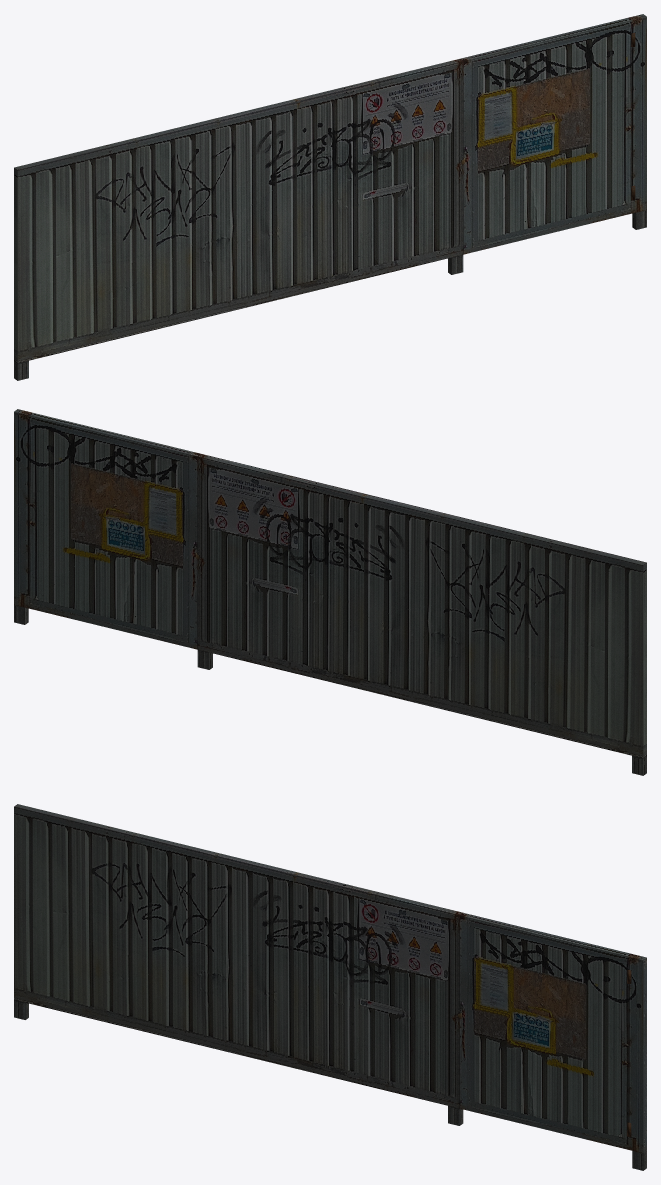
File: gate_1.glb
The picture shows the model from 3 angles, top to bottom: view 1: azimuth 30°, elevation 25°; view 2: azimuth 150°, elevation 25°; view 3: azimuth 330°, elevation 25°; orthographic projection.
Visible parts, largest first — view 1: gate_1, gate_1_moving_part; view 2: gate_1, gate_1_moving_part; view 3: gate_1, gate_1_moving_part.
Part boxes in pixels (x1=…): gate_1: x1=14, y1=14, x2=646, y2=380; gate_1_moving_part: x1=460, y1=17, x2=635, y2=254; gate_1: x1=14, y1=409, x2=646, y2=775; gate_1_moving_part: x1=28, y1=412, x2=200, y2=649; gate_1: x1=14, y1=804, x2=646, y2=1170; gate_1_moving_part: x1=459, y1=912, x2=632, y2=1149.
Size of the model in its own units: 5 by 1.6 by 0.065.
Materials: 1 (1 with a texture image).
